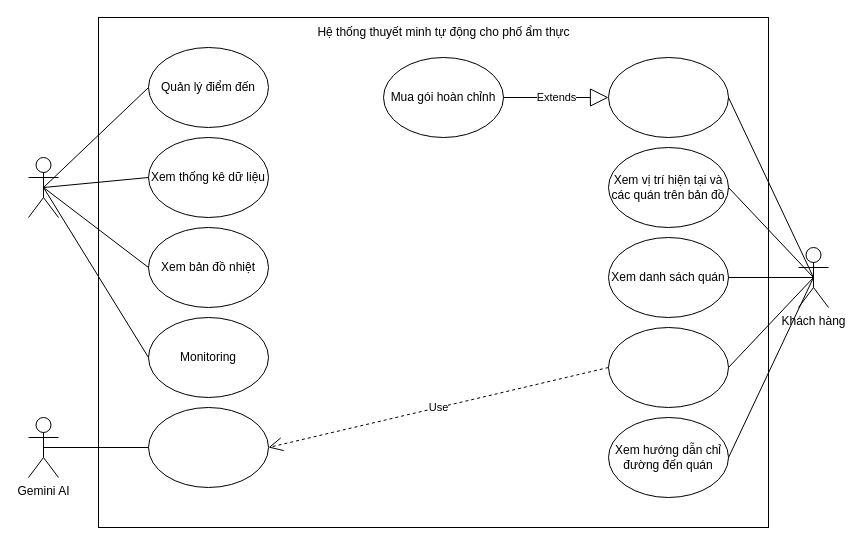
Image size: 862x545. Some labels were removed from this diagram. Here are the shapes that lost their labels. From the top down, the centre of each, then its label:
At point 668,97: "Kích hoạt ứng dụng".
At point 43,187: "Admin".
At point 668,367: "Nghe thuyết trình tự động hoặc thủ công".
At point 208,447: "Dịch và chuyển text thành audio".
